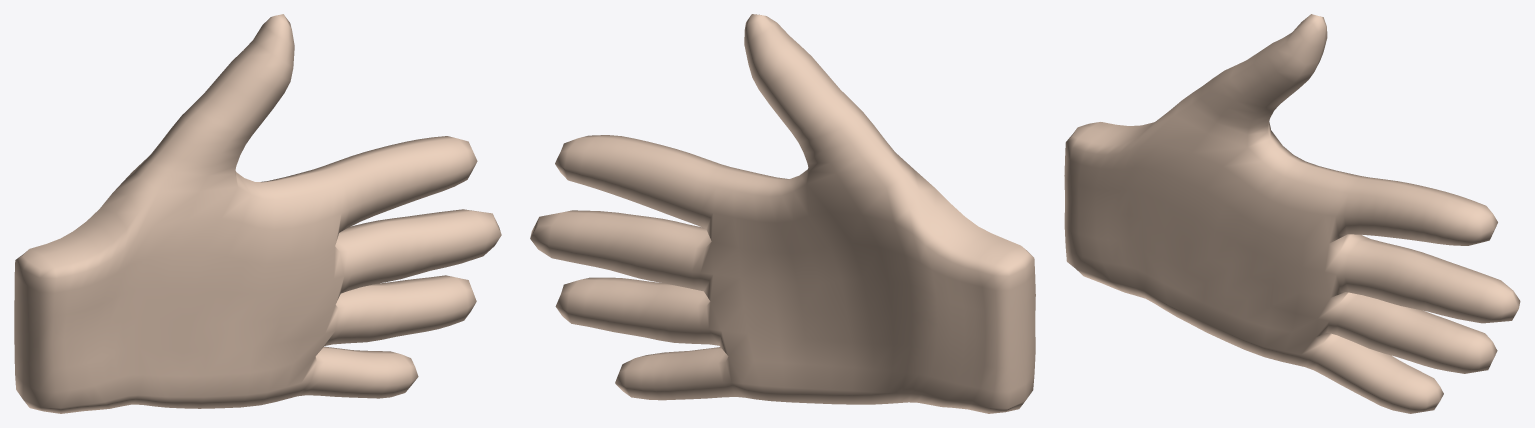
The model's file is 6 r_hand.fbx.
3 renders of one model, left to right at view 1: azimuth 30°, elevation 25°; view 2: azimuth 150°, elevation 25°; view 3: azimuth 330°, elevation 25°, orthographic. The views are drawn at different scales.
Visible parts, largest first — view 1: r_hand; view 2: r_hand; view 3: r_hand.
Boxes of the visible parts, left/top/right/bottom form: r_hand: left=14, top=14, right=501, bottom=413; r_hand: left=530, top=14, right=1035, bottom=413; r_hand: left=1064, top=14, right=1520, bottom=413.
Bounding box in the file's own units: 32.36 × 25.88 × 4.46.
